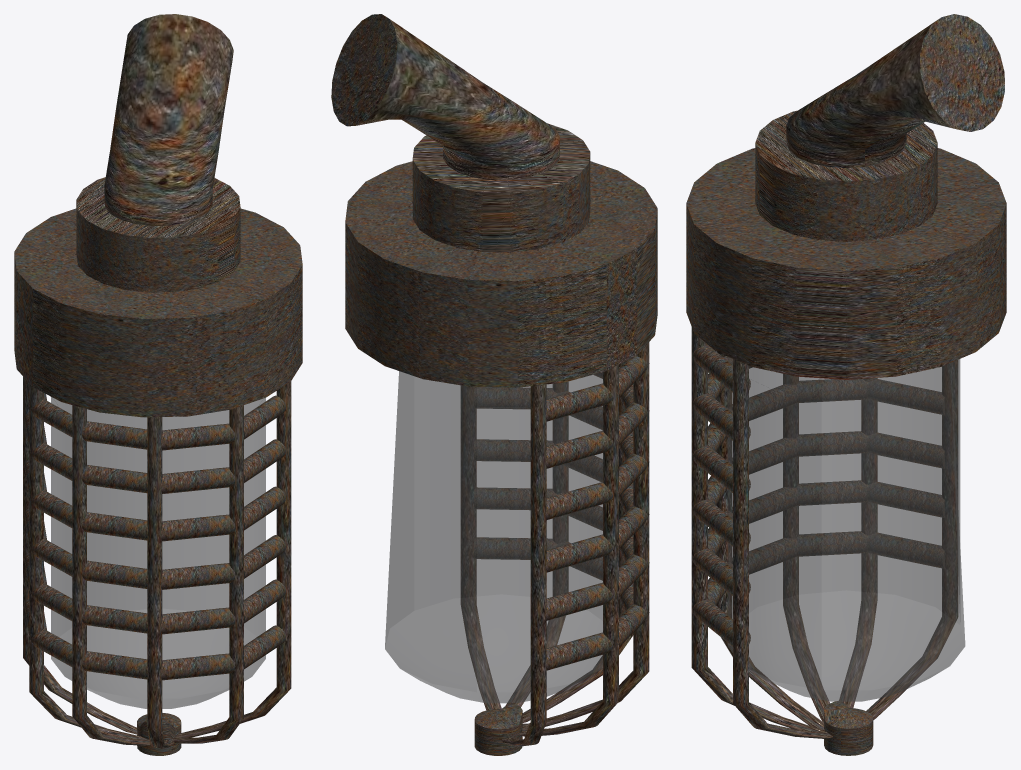
Rendered from walllamp.fbx.
3 renders of one model, left to right at view 1: azimuth 30°, elevation 25°; view 2: azimuth 150°, elevation 25°; view 3: azimuth 270°, elevation 25°, orthographic. The views are drawn at different scales.
Visible parts, largest first — view 1: pointLight2; view 2: pointLight2; view 3: pointLight2.
Part boxes in pixels (x1,y1,x2,y2): pointLight2: (14, 14, 302, 755); pointLight2: (331, 14, 657, 755); pointLight2: (686, 14, 1006, 755).
Size of the model in its own units: 5.34 by 13.96 by 5.34.
4 materials, 3 textured.
